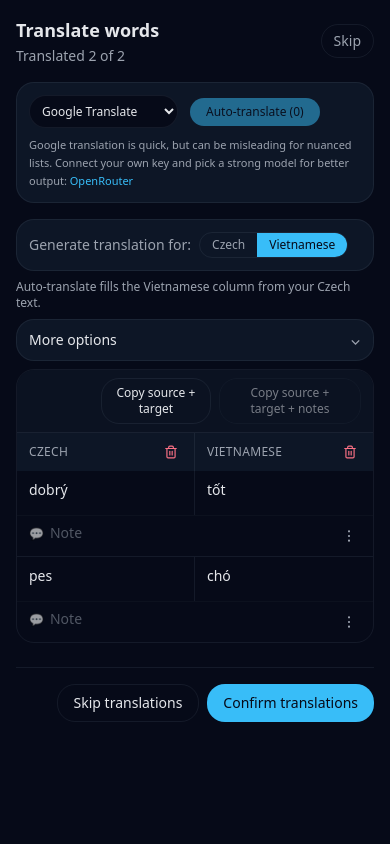
Scenario: TranslationStep bulk accepted answers › keeps advanced actions collapsed and moves accepted-translation inputs into the row menu
Expected: the field labelled "Add another translation…" is not shown
Expected: the number of text boxes with placeholder "Note" is 2, [50,522,331,550]; [50,608,331,636]
What coordinates should you click on to do the following:
click the 1st button named "Row options"
I would click on:
 (349, 536)
Its box is [337,524,361,548].
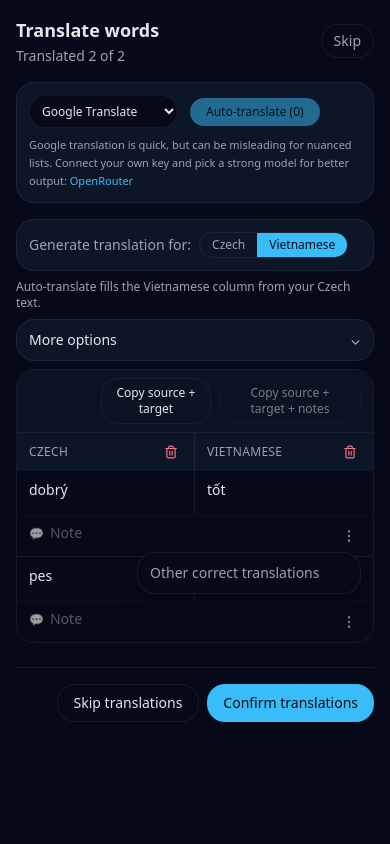
What coordinates should you click on to do the following:
click the menu item "Other correct translations"
I would click on:
 (249, 573)
Its box is [138,557,360,589].
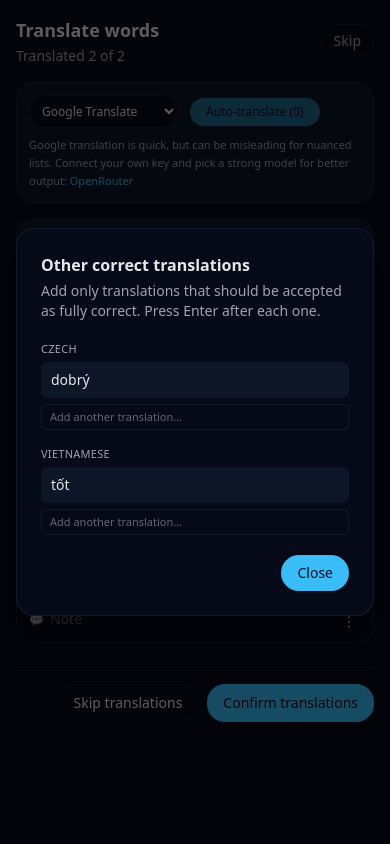
Expected: the number of fields labelled "Add another translation…" is 2, [41,404,349,430]; [41,508,349,535]
